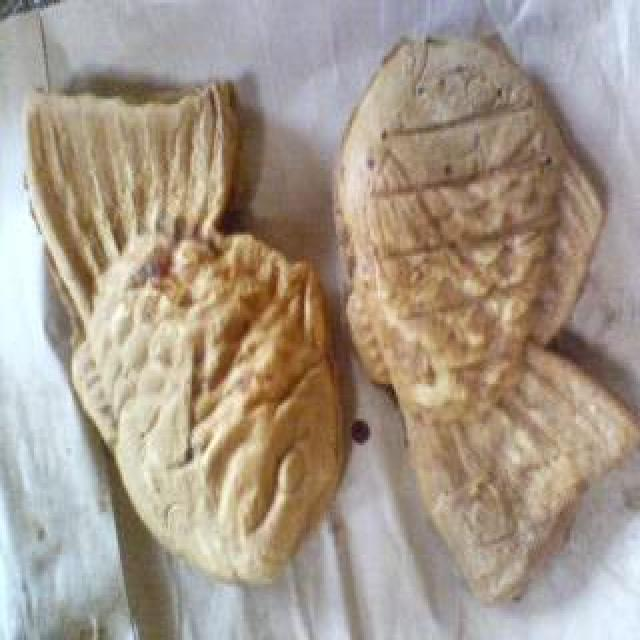熟制海鲜: (24, 21, 640, 603)
